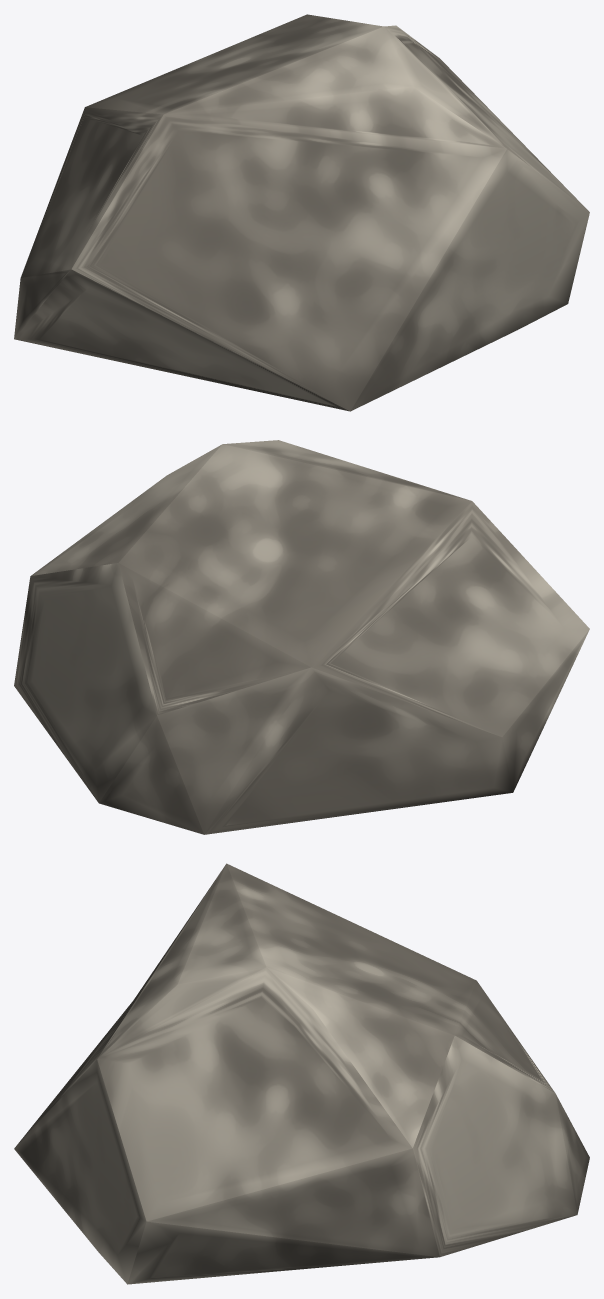
File: rock_lp_mossy1.gltf
The picture shows the model from 3 angles, top to bottom: view 1: azimuth 30°, elevation 25°; view 2: azimuth 150°, elevation 25°; view 3: azimuth 270°, elevation 25°; orthographic projection. The views are drawn at different scales.
Parts seen in each view (by area): view 1: rock_lp_mossy1_stone_LOD0; view 2: rock_lp_mossy1_stone_LOD0; view 3: rock_lp_mossy1_stone_LOD0.
Part boxes in pixels (x1,y1,x2,y2): rock_lp_mossy1_stone_LOD0: (14, 14, 589, 411); rock_lp_mossy1_stone_LOD0: (14, 440, 589, 834); rock_lp_mossy1_stone_LOD0: (14, 863, 589, 1284).
Size of what is drawn, in the model's own units: 0.5634 by 0.2784 by 0.5592.
Materials: 1 (1 with a texture image).
